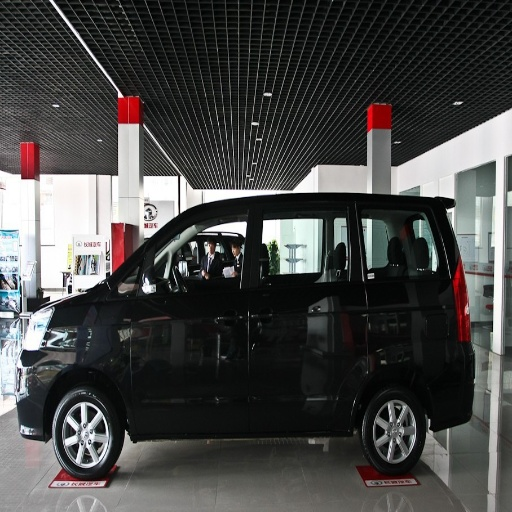back_glass: (383, 214, 447, 276)
trunk: (321, 294, 373, 408)
